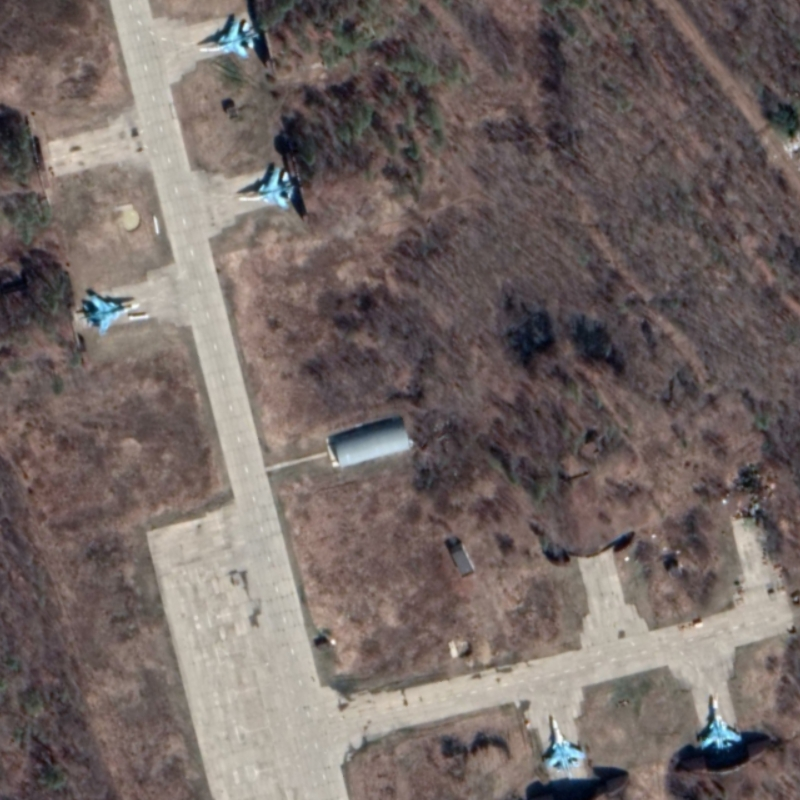A19: (694, 692, 745, 757), (75, 289, 142, 338), (233, 165, 299, 211), (539, 713, 587, 773), (196, 15, 261, 58)
